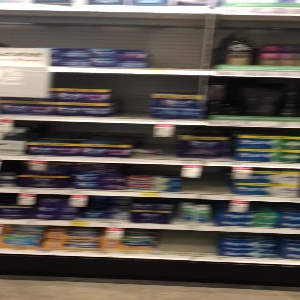void: (212, 75, 300, 120), (149, 16, 204, 69), (110, 75, 150, 120), (182, 163, 230, 198), (130, 124, 176, 158), (155, 232, 217, 255)
